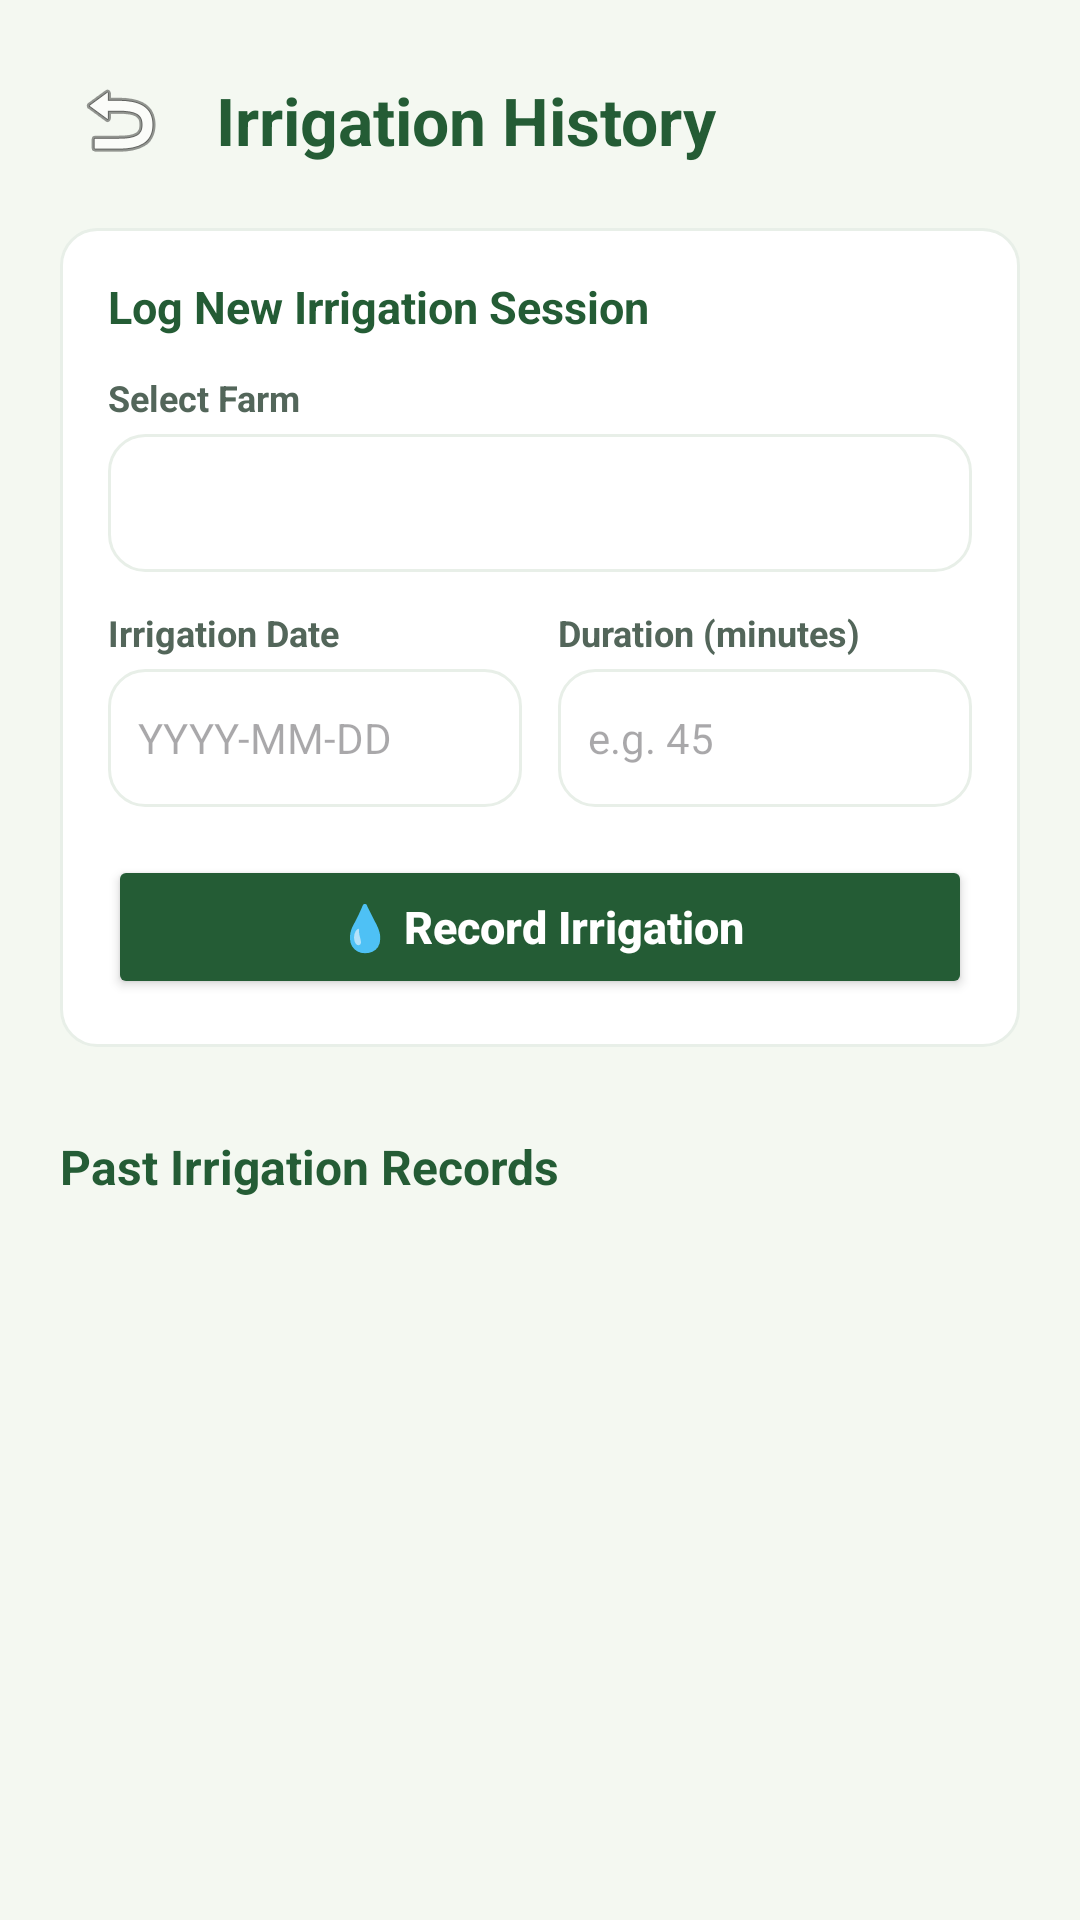

Icon bounding boxes for this 1080*1920 phone screenshot, format Rect(x1, y1, x2, y2):
Back: Rect(87, 89, 156, 152)
